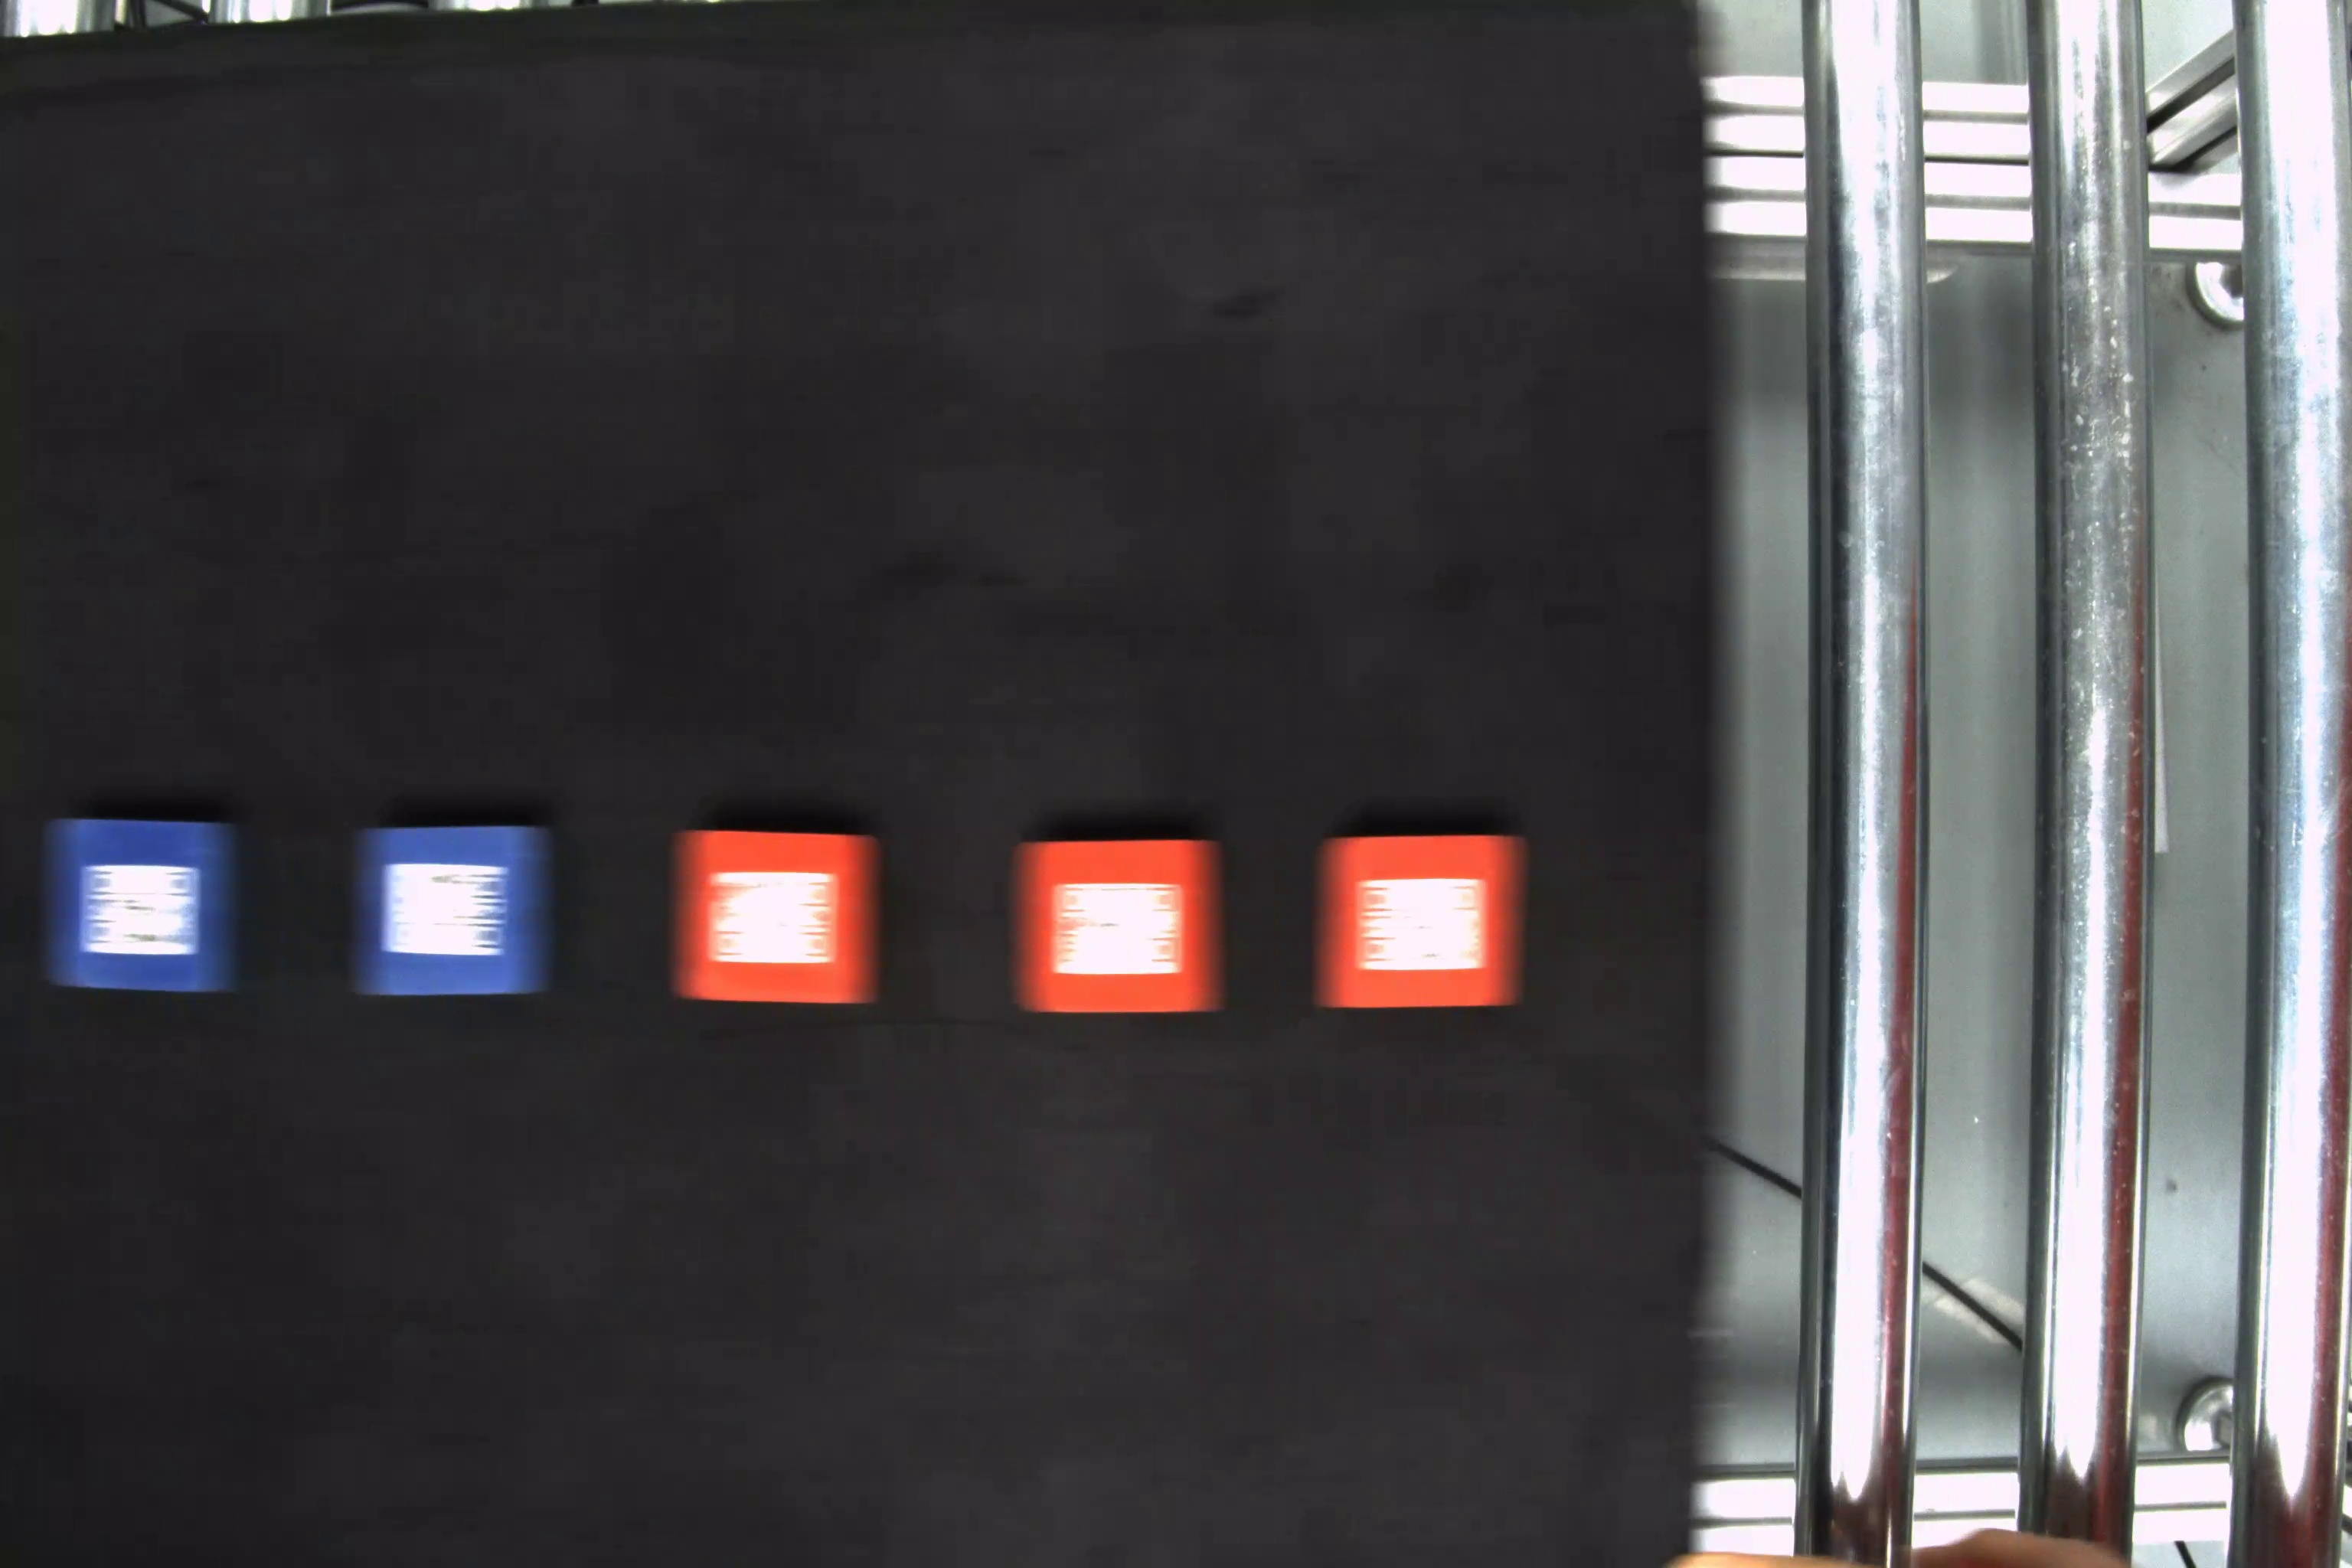wood: (670, 828, 889, 1013), (1013, 840, 1230, 1017), (38, 812, 245, 994), (1316, 840, 1526, 1013), (352, 824, 553, 1001)
